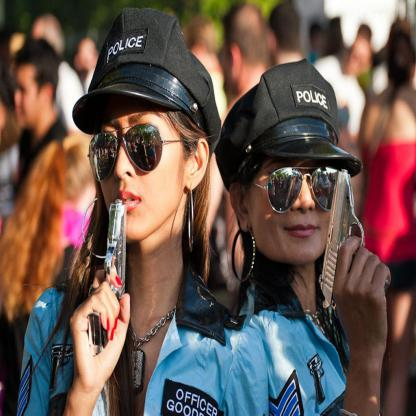face: (98, 90, 184, 240), (250, 118, 333, 261), (13, 62, 44, 132)
